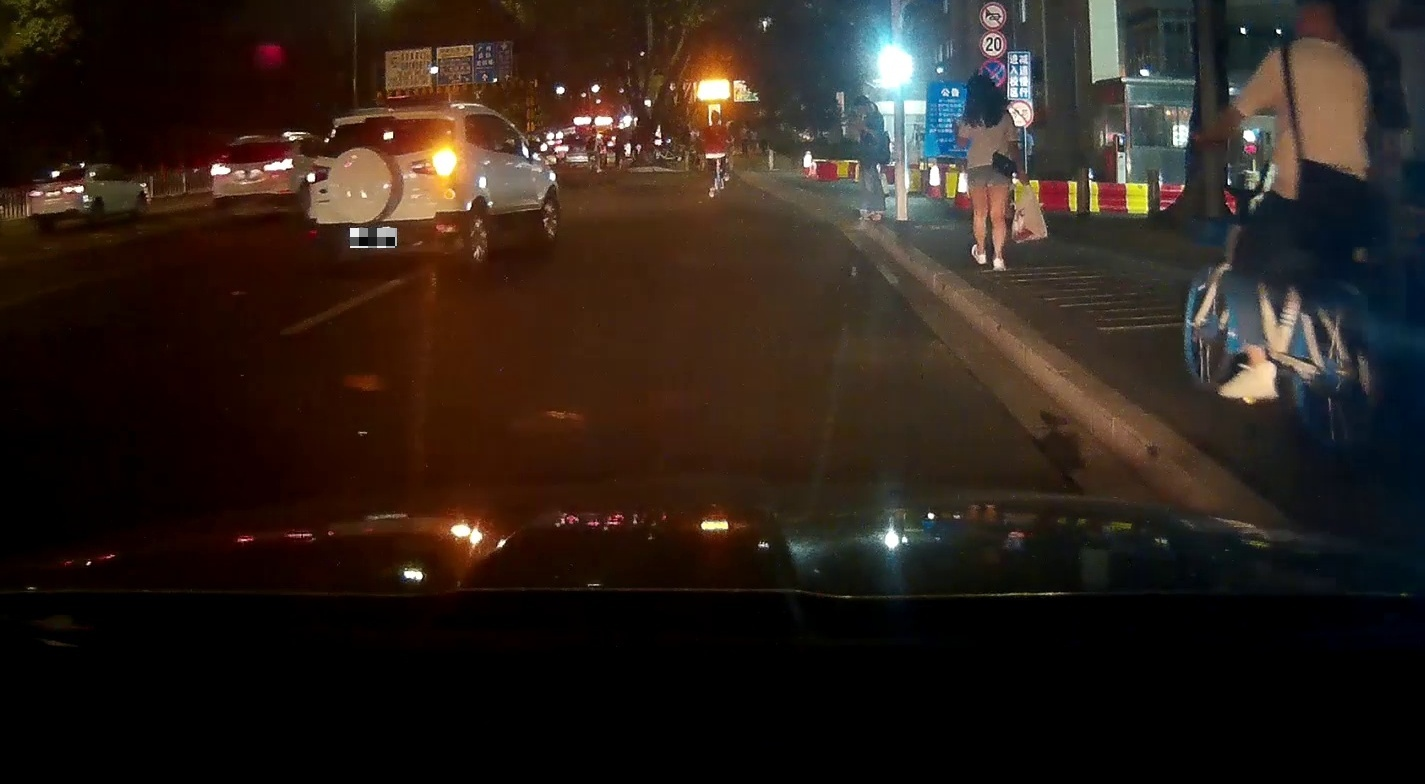L_light: (307, 163, 330, 184), (210, 164, 231, 176)
R_light: (411, 153, 457, 175), (264, 159, 293, 172)
T_light: (365, 115, 395, 123), (251, 140, 263, 143)
night-no: (208, 131, 298, 220)
night-right: (306, 101, 469, 267)
plate_1: (350, 228, 397, 248)
